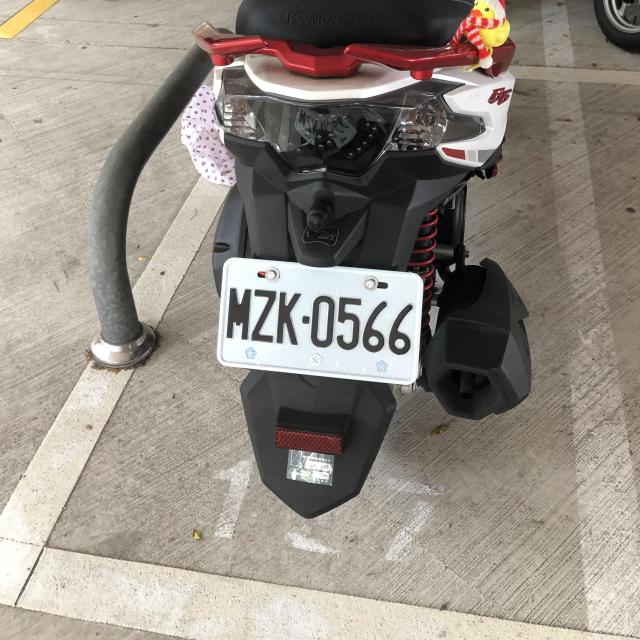W: (212, 255, 425, 388)
